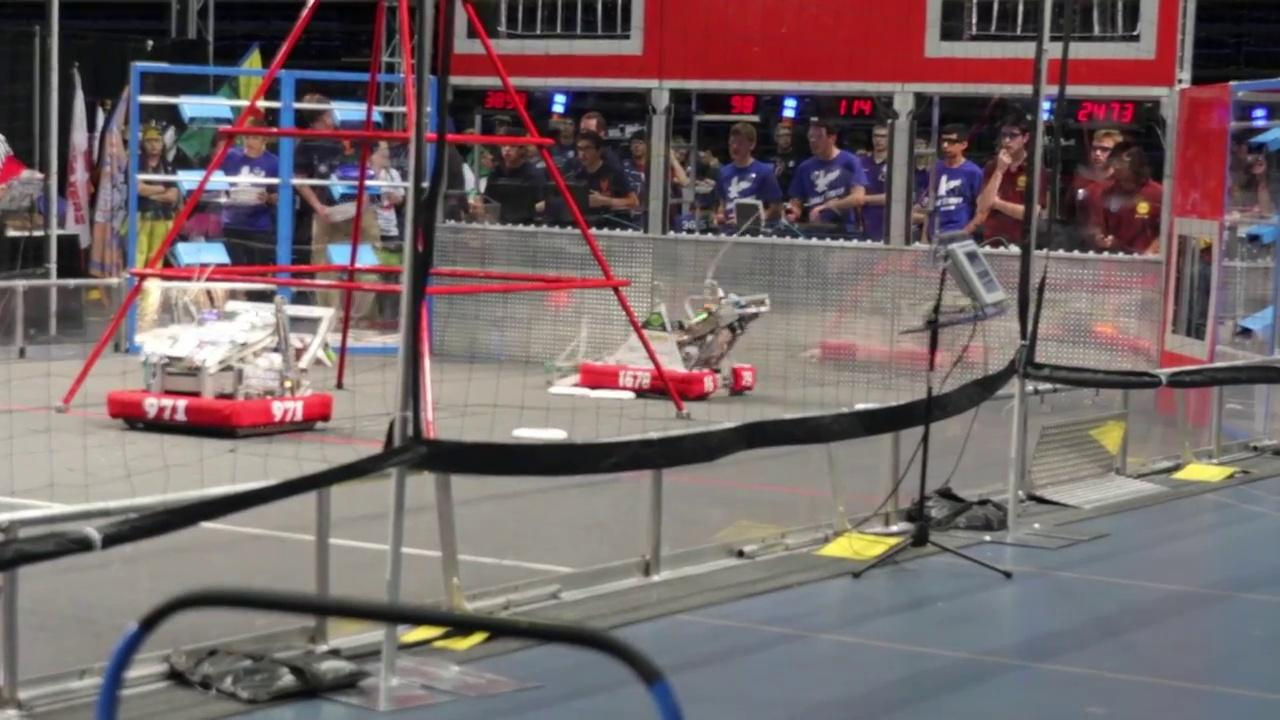robot: (104, 293, 343, 438), (576, 280, 776, 401)
